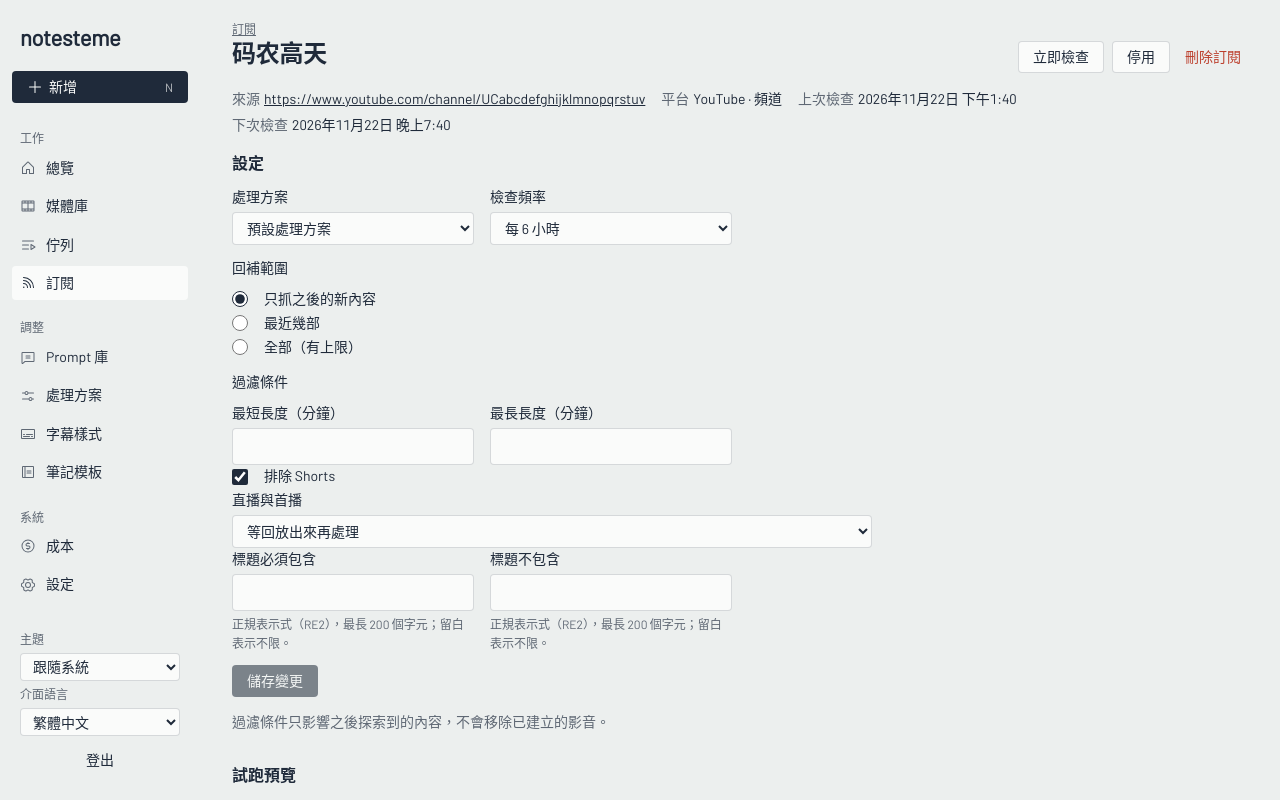
訂閱：詳情 › 立即檢查
The width and height of the screenshot is (1280, 800).
Click the button "立即檢查" at (1061,57), box [1018,41,1104,73]
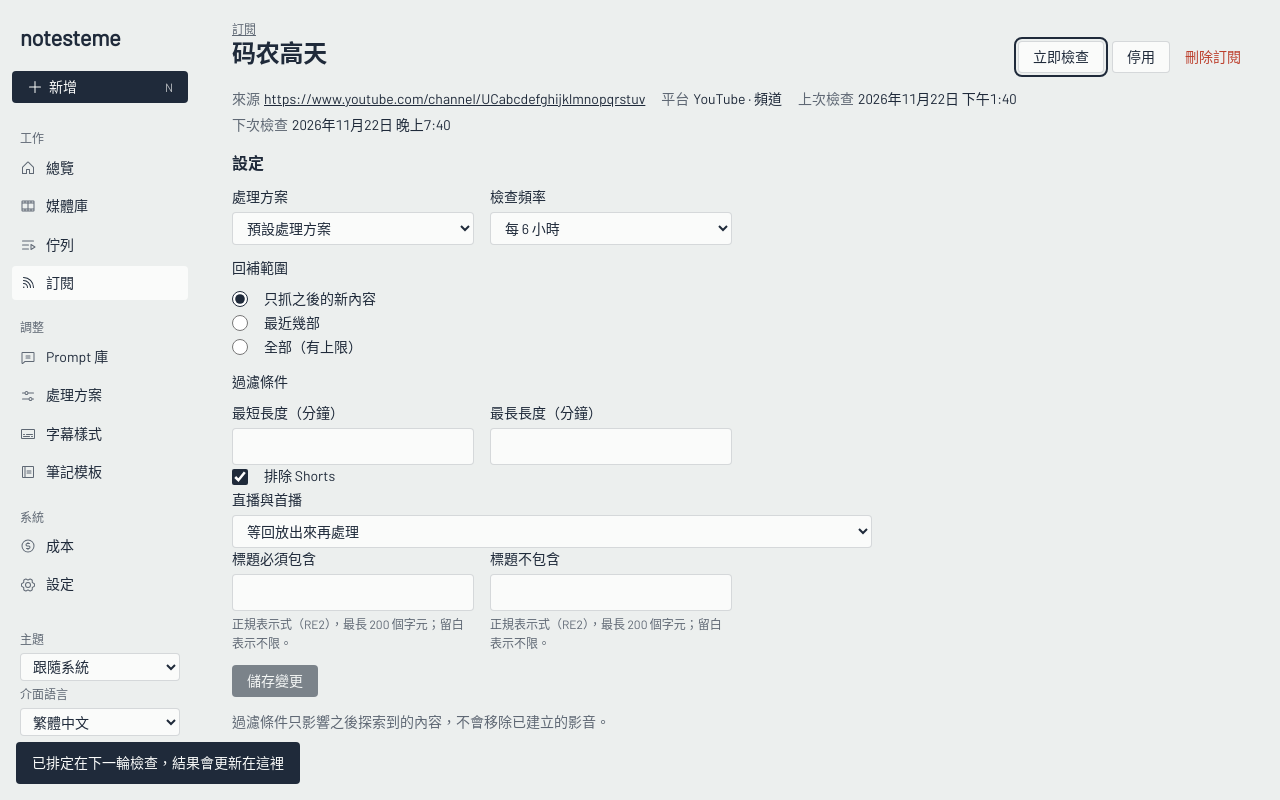
Expected: the text "已排定在下一輪檢查，結果會更新在這裡" is shown, [32,752,284,774]
